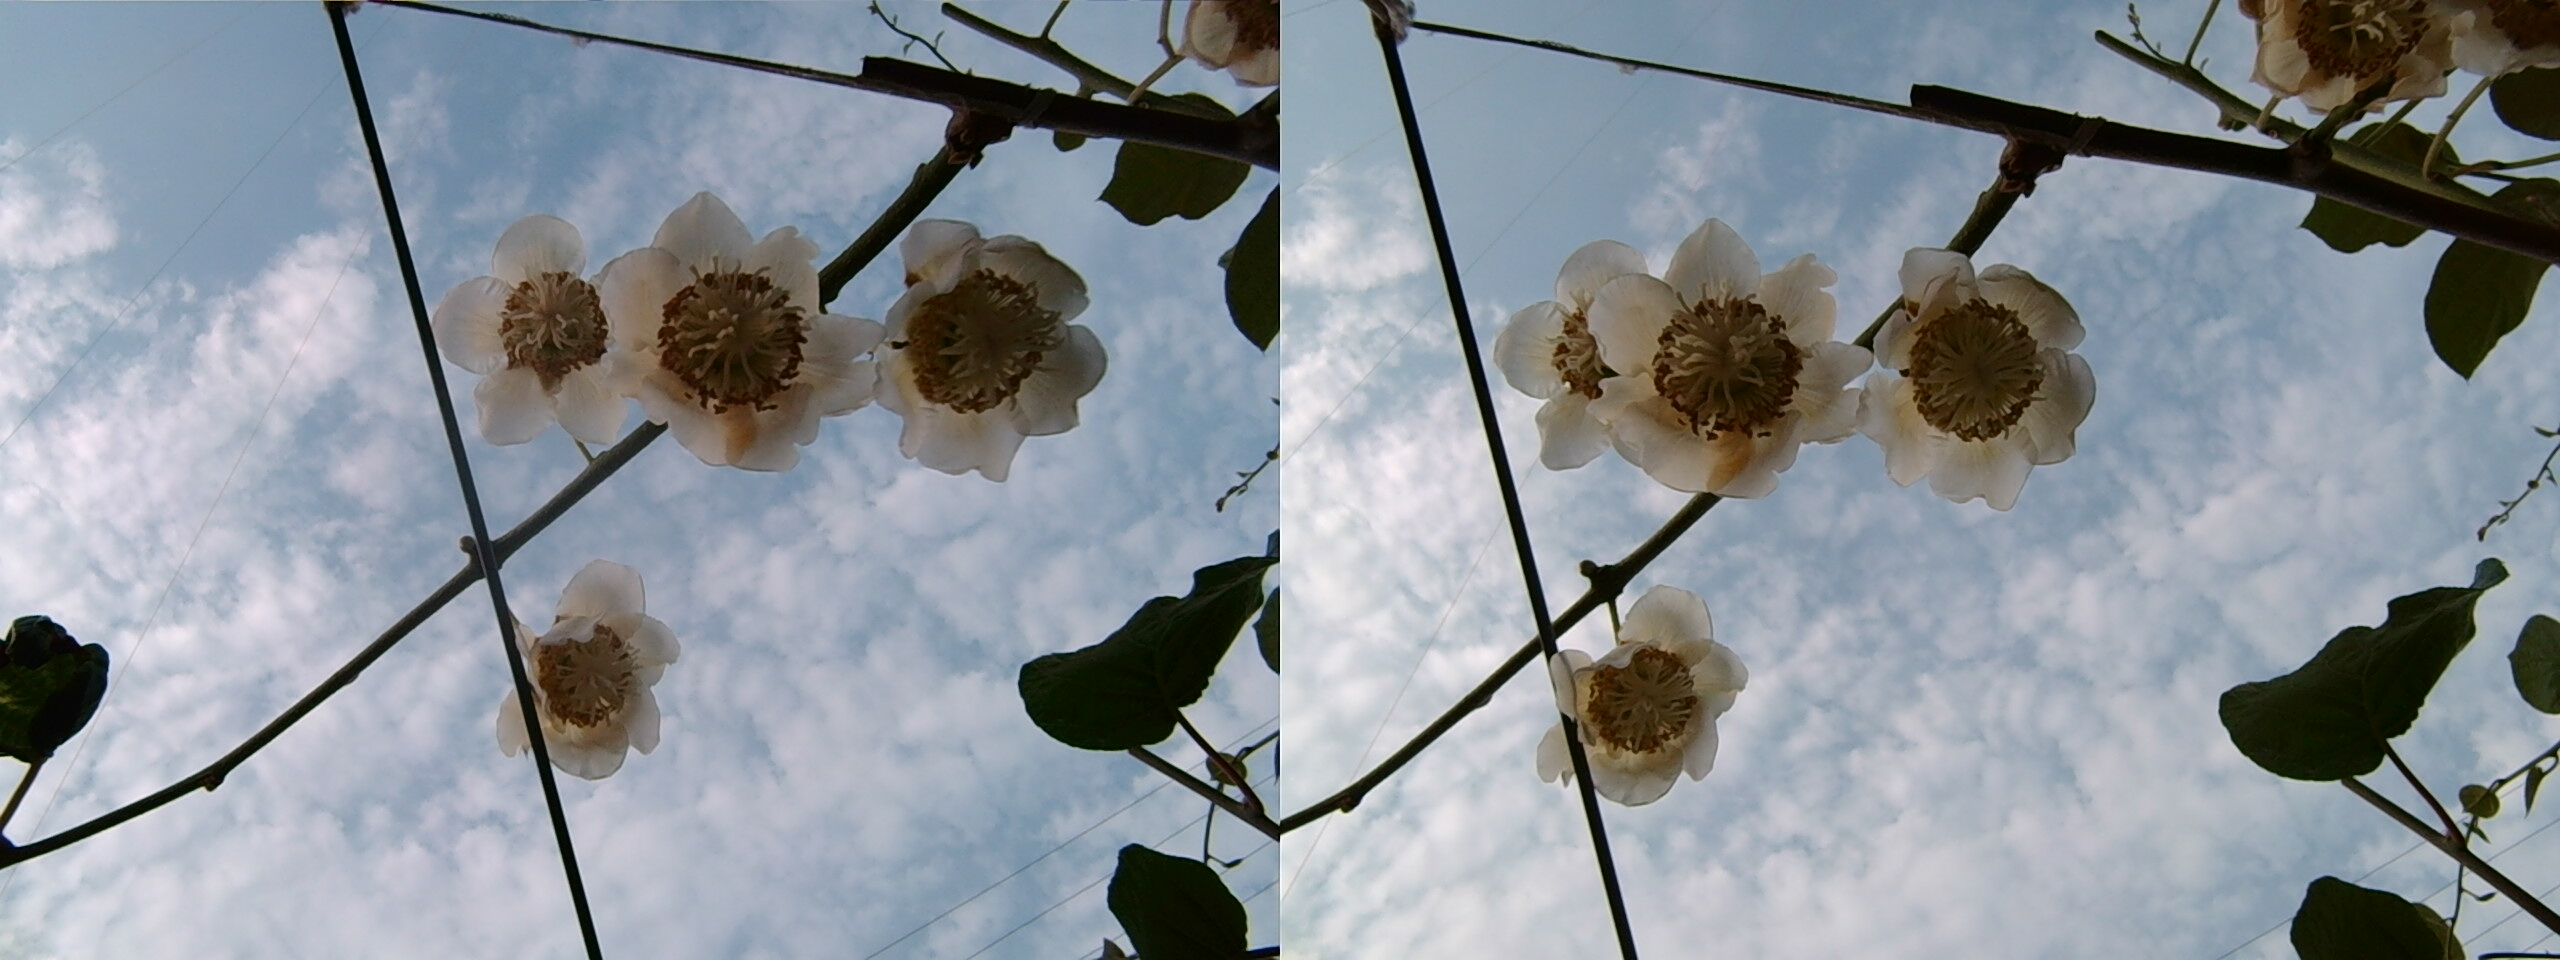flower: (1566, 212, 1868, 500), (604, 189, 877, 480), (860, 206, 1113, 490), (1853, 232, 2100, 514), (438, 207, 656, 456), (1535, 580, 1750, 807), (487, 553, 691, 784), (2233, 0, 2480, 101), (1492, 291, 1628, 411)
